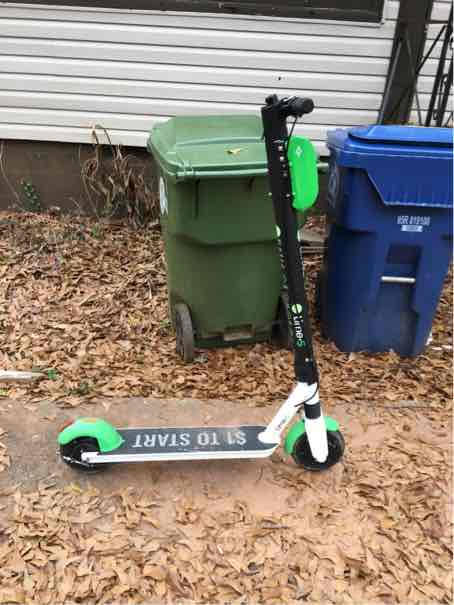scooter: (56, 88, 351, 479)
